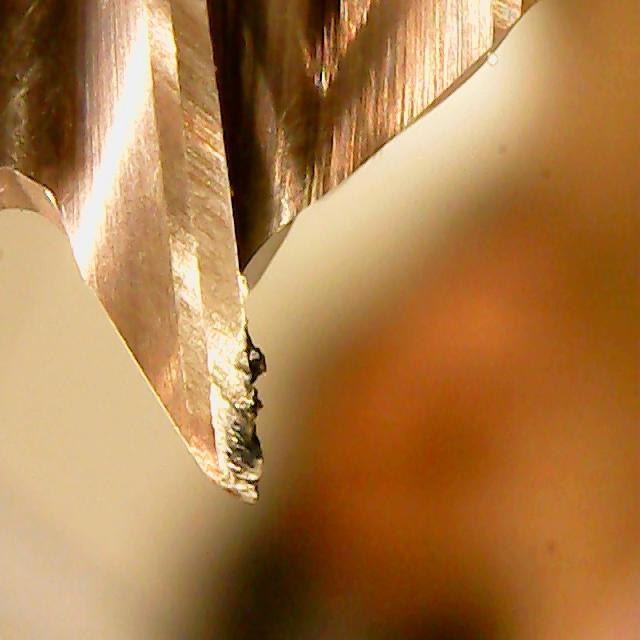Tool-wear-class-1: (168, 162, 279, 515)
